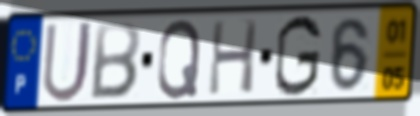6: (329, 14, 374, 94)
B: (87, 20, 143, 102)
G: (272, 13, 324, 100)
H: (206, 17, 261, 98)
Q: (155, 16, 204, 101)
U: (40, 18, 96, 106)
